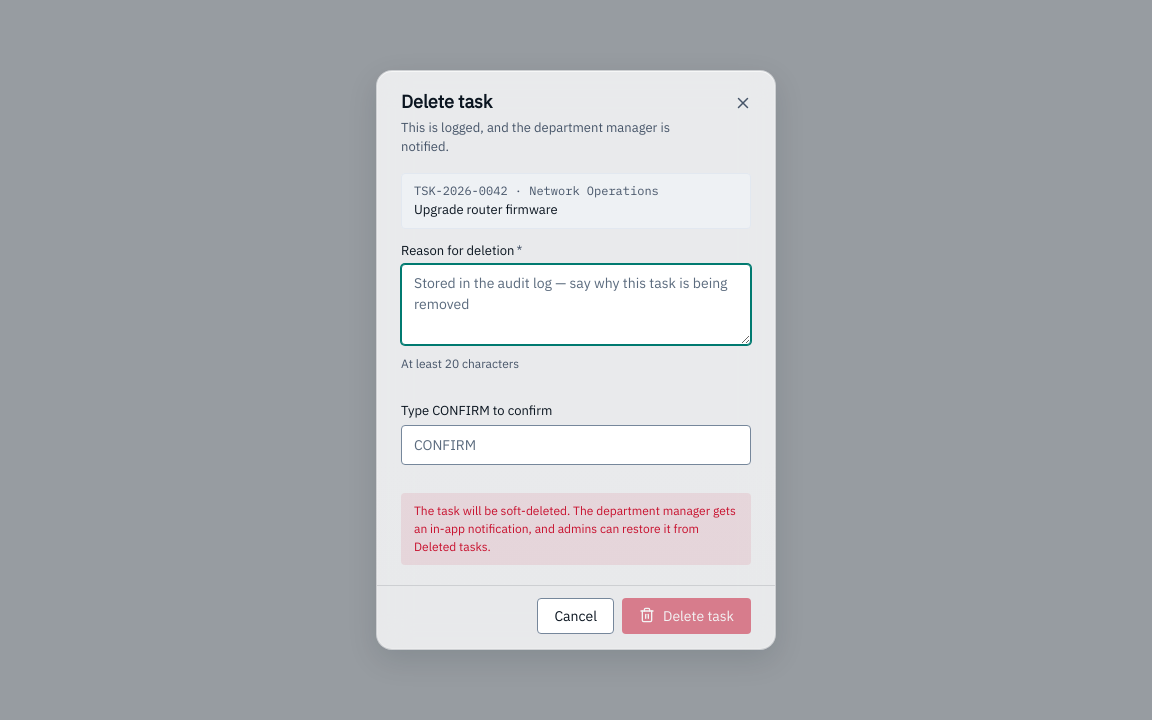
Test: AdminDeleteModal › shows error text when confirm input is wrong
In the field: (576, 444) top-left (401, 424), bottom-right (751, 464), type "WRONG"
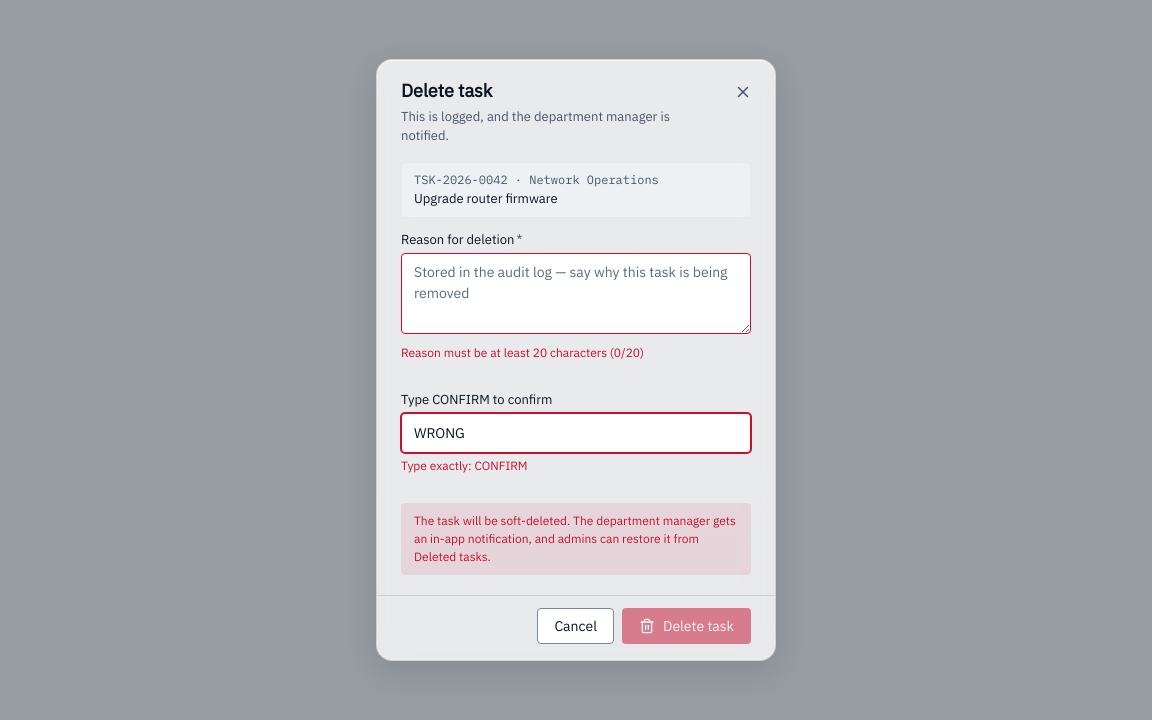
Now the text "Type exactly: CONFIRM" is shown, box top-left (401, 458), bottom-right (528, 473)
